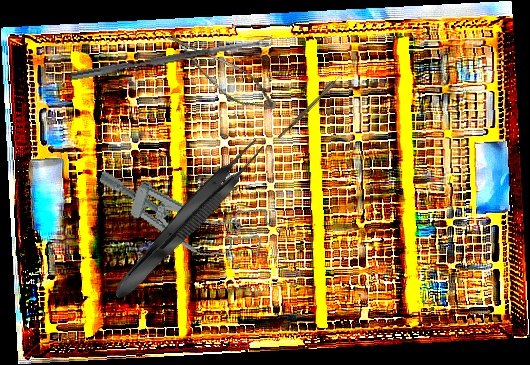Micro Scissor: (151, 30, 287, 117)
Speculum: (87, 158, 276, 273)
Surgical Spoon: (68, 37, 274, 82), (277, 60, 355, 141)
Tissue Forceps: (105, 132, 271, 307)
